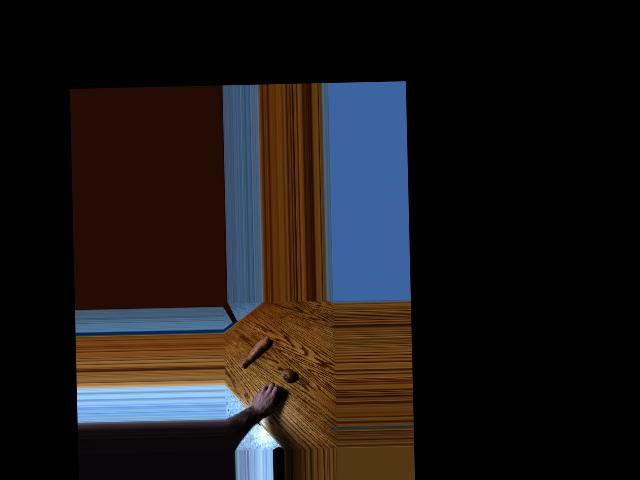onion: (268, 387, 283, 406)
